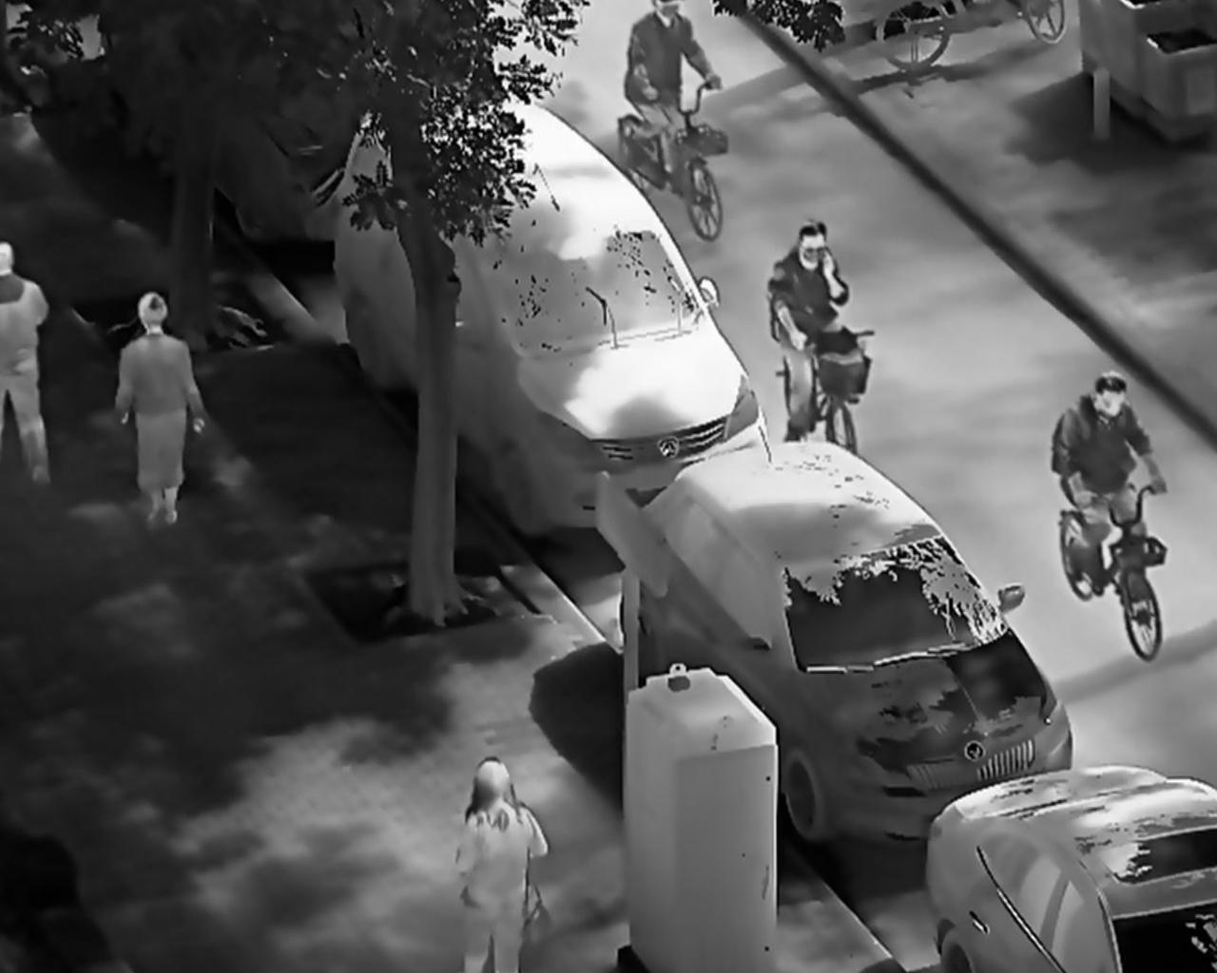person: (1048, 368, 1169, 604), (112, 289, 211, 534), (453, 754, 555, 973), (766, 216, 854, 450)
